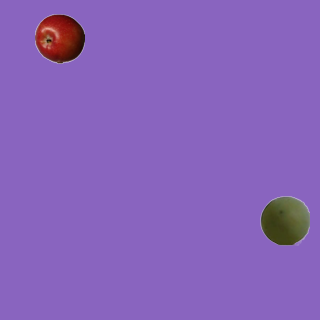Apple Braeburn: (34, 13, 84, 63)
Grape White 4: (259, 195, 309, 245)
